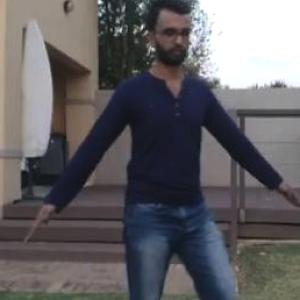land: (13, 7, 281, 299)
